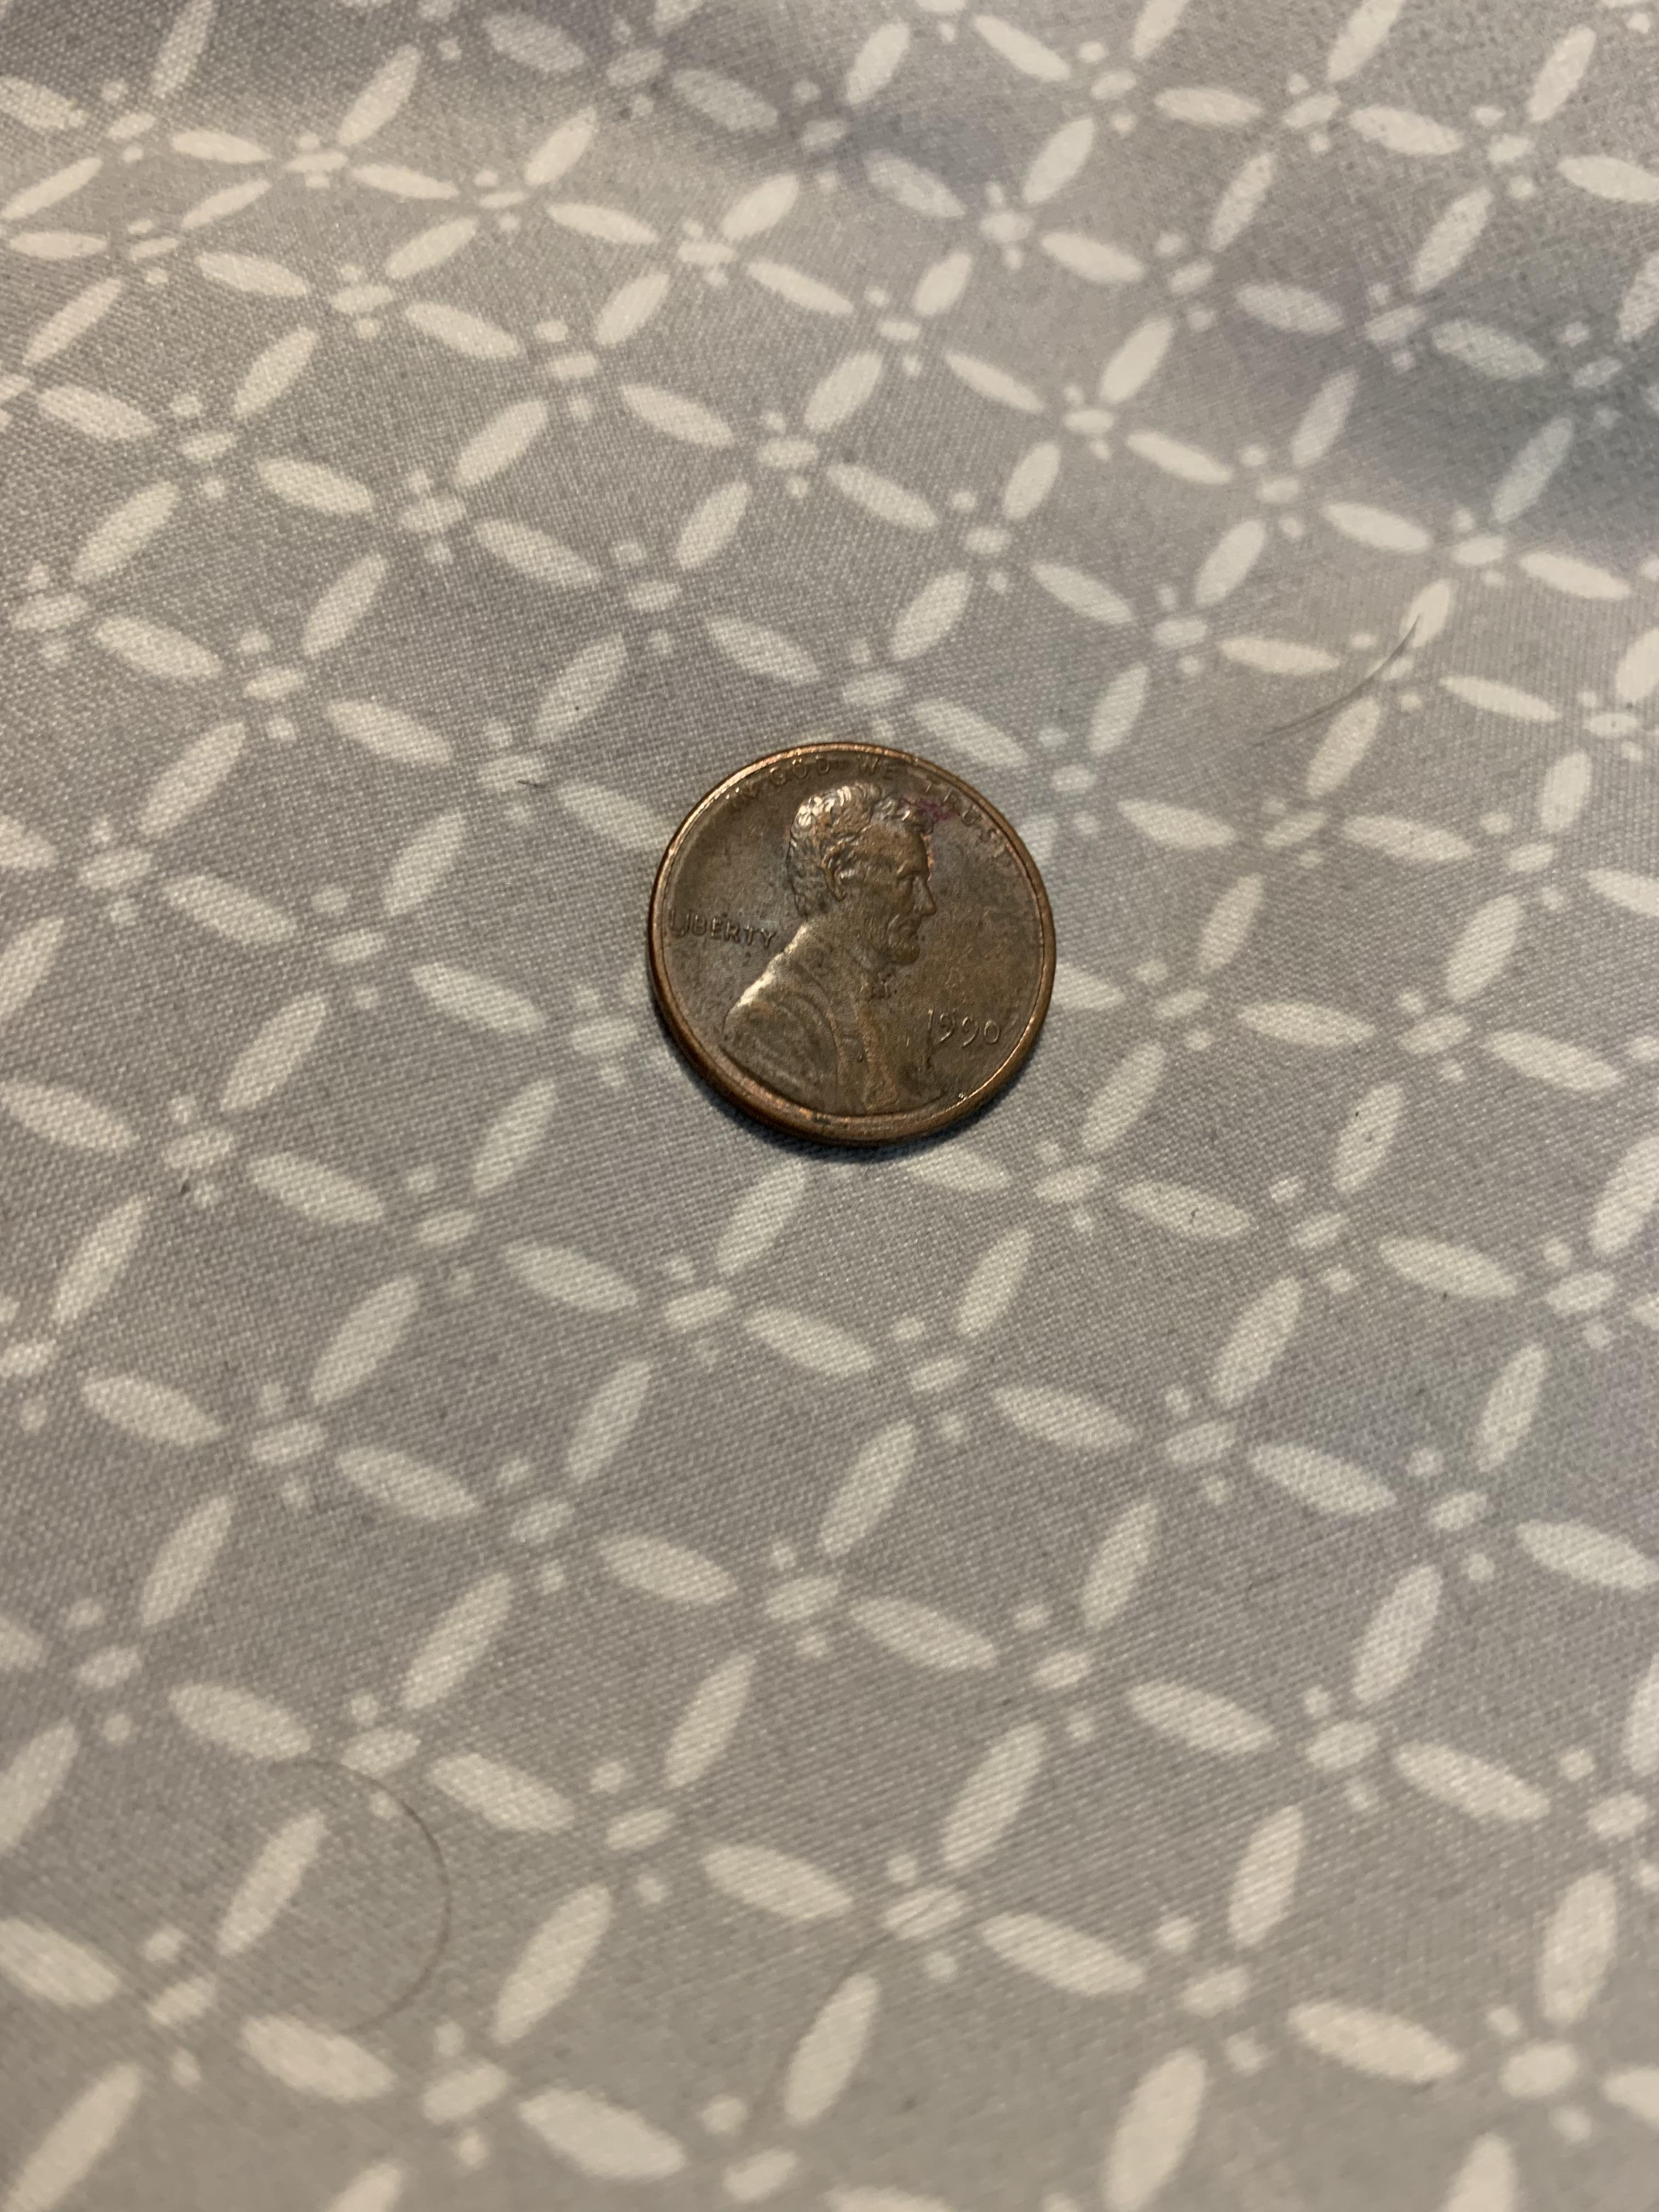Penny: (631, 718, 1094, 1163)
